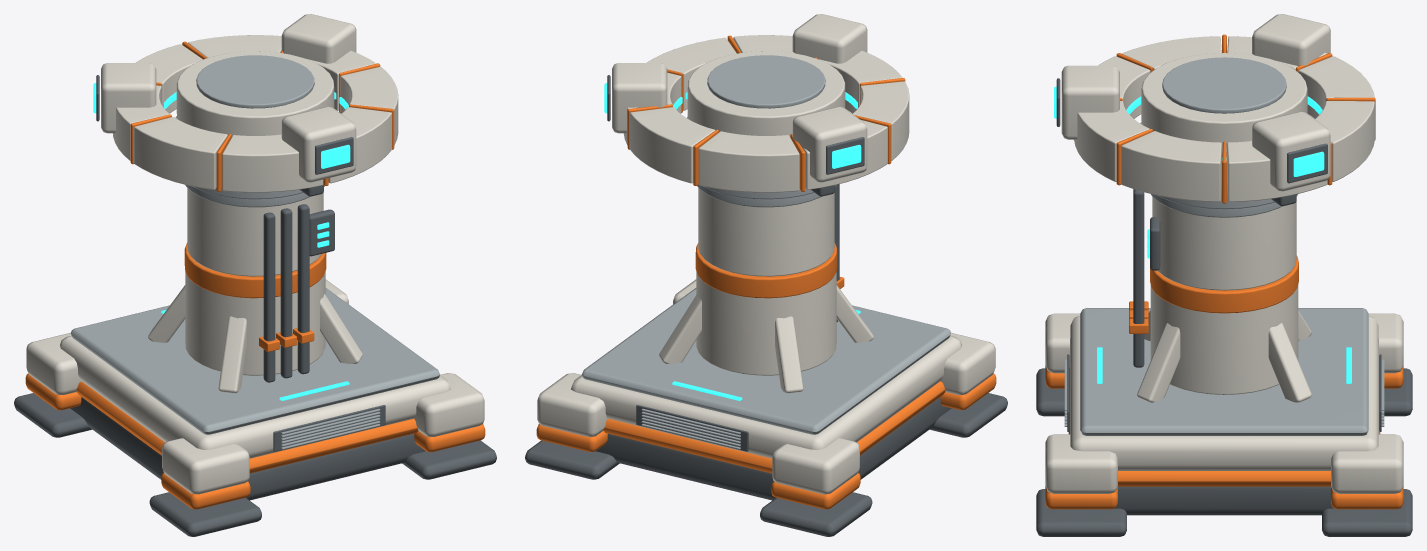
The model's file is SM_EnergyExtender.fbx.
The picture shows the model from 3 angles, left to right: view 1: azimuth 30°, elevation 25°; view 2: azimuth 150°, elevation 25°; view 3: azimuth 270°, elevation 25°; orthographic projection. The views are drawn at different scales.
Parts seen in each view (by area): view 1: SM_EnergyExtender; view 2: SM_EnergyExtender; view 3: SM_EnergyExtender.
Part boxes in pixels (x1,y1,x2,y2): SM_EnergyExtender: (14,14,496,536); SM_EnergyExtender: (525,14,1007,536); SM_EnergyExtender: (1036,14,1412,536).
Bounding box in the file's own units: 290 × 290 × 326.
